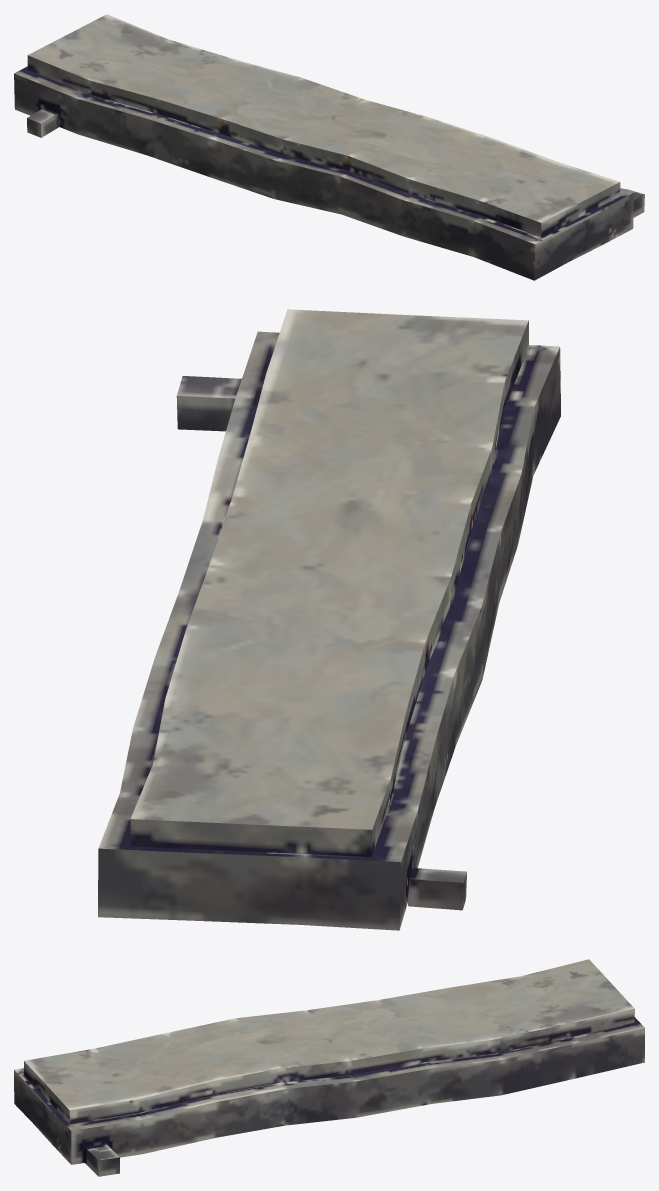
The picture shows the model from 3 angles, top to bottom: view 1: azimuth 30°, elevation 25°; view 2: azimuth 150°, elevation 25°; view 3: azimuth 270°, elevation 25°; orthographic projection. The views are drawn at different scales.
Parts seen in each view (by area): view 1: Footing; view 2: Footing; view 3: Footing.
Part boxes in pixels (box(x1,y1,x2,y2)): Footing: box(14, 14, 644, 280); Footing: box(98, 309, 560, 930); Footing: box(14, 959, 644, 1176).
Bounding box in the file's own units: 4.02 × 0.6263 × 6.05.
1 material, 1 textured.
